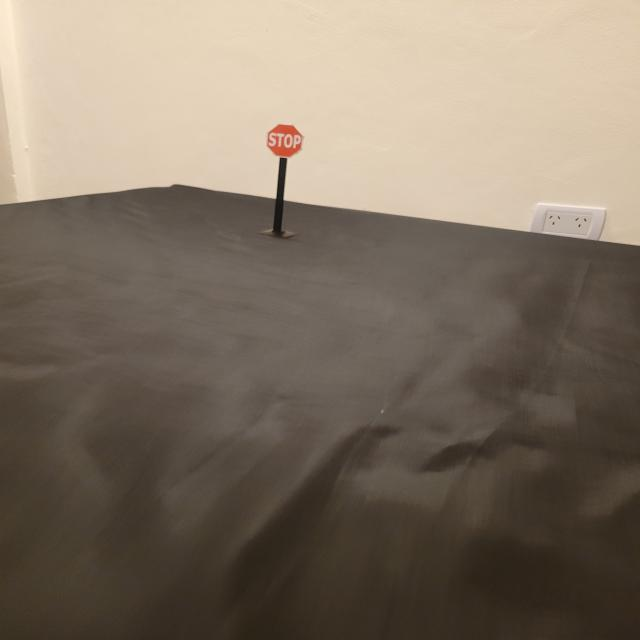stop: (266, 123, 305, 159)
